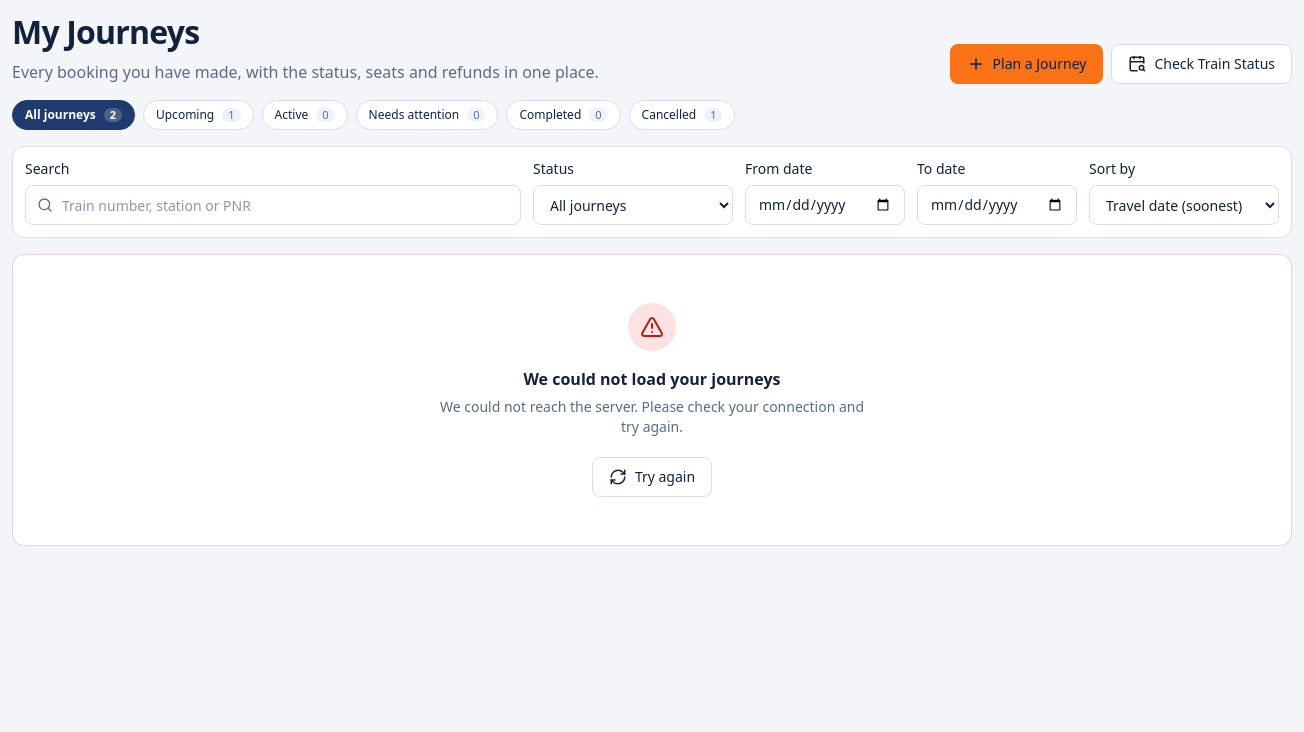
Scenario: My Journeys › shows a friendly error and recovers when retried
Expected: the heading "We could not load your journeys" is shown, x1=524 y1=367 x2=780 y2=391
Expected: the text "We could not reach the server. Please check your connection and try again." is shown, x1=428 y1=397 x2=876 y2=437
Click the button "Try again" at (652, 477), box x1=592 y1=457 x2=712 y2=497
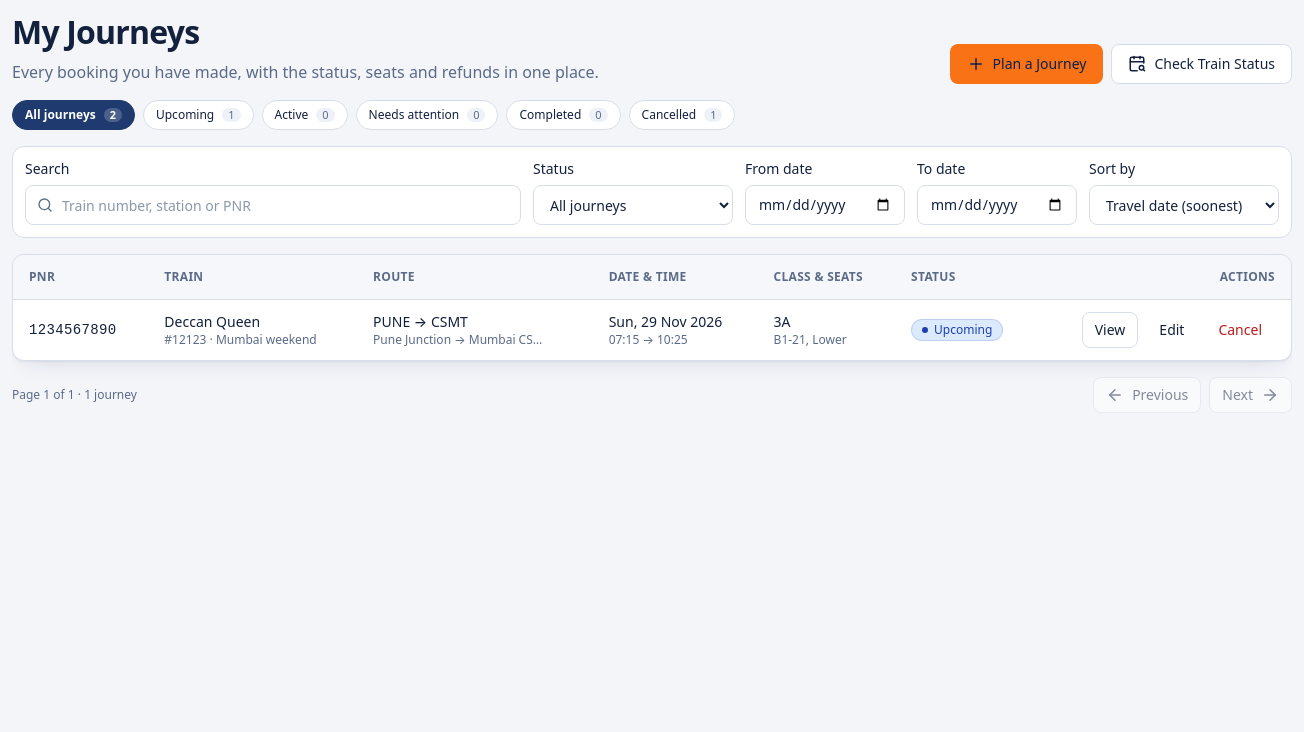
Expected: the text "1234567890" is shown, x1=29 y1=322 x2=116 y2=338
